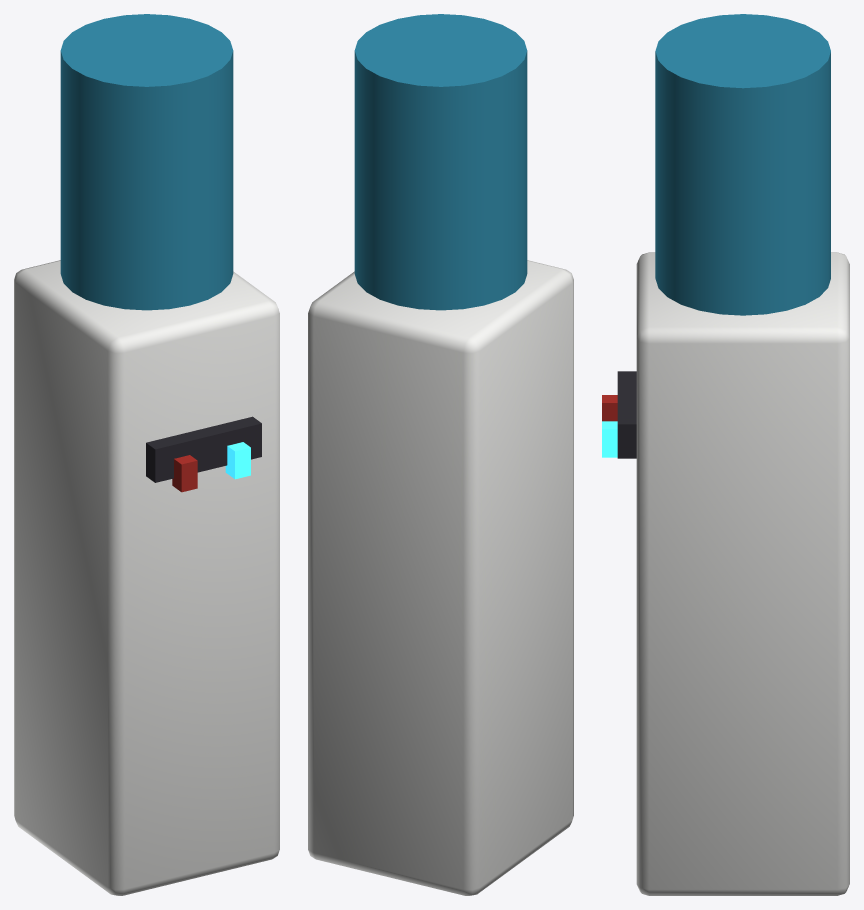
File: fur_water_dispenser.glb
3 renders of one model, left to right at view 1: azimuth 30°, elevation 25°; view 2: azimuth 150°, elevation 25°; view 3: azimuth 270°, elevation 25°, orthographic.
Parts seen in each view (by area): view 1: FUR_water_dispenser; view 2: FUR_water_dispenser; view 3: FUR_water_dispenser.
Boxes of the visible parts, <box> form: FUR_water_dispenser: <box>14,14,279,895</box>; FUR_water_dispenser: <box>308,14,573,895</box>; FUR_water_dispenser: <box>602,14,849,895</box>.
Size of the model in its own units: 0.32 by 1.42 by 0.395.
3 materials, 1 textured.
